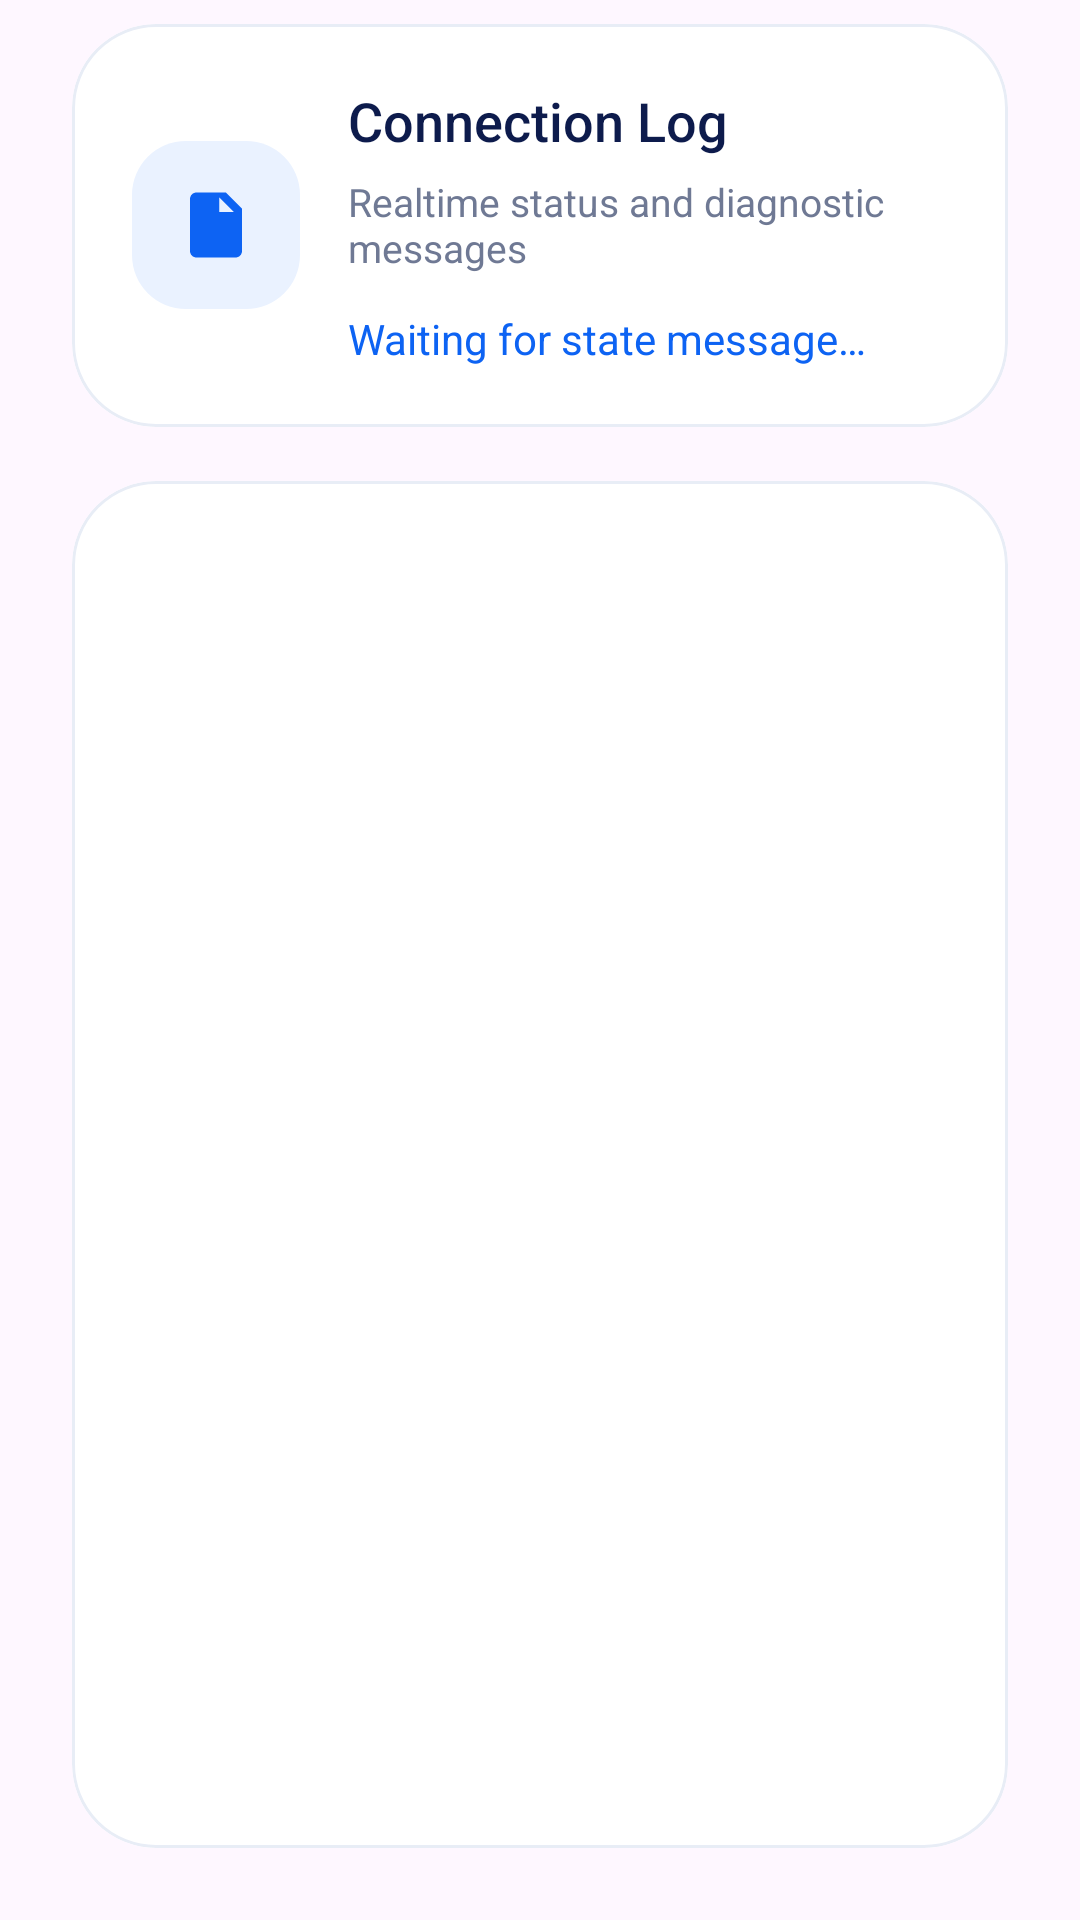

Point at icon controls on the screen. Image size 1080*1920, points as (x=x, y=y).
oc log: (x=216, y=225)
